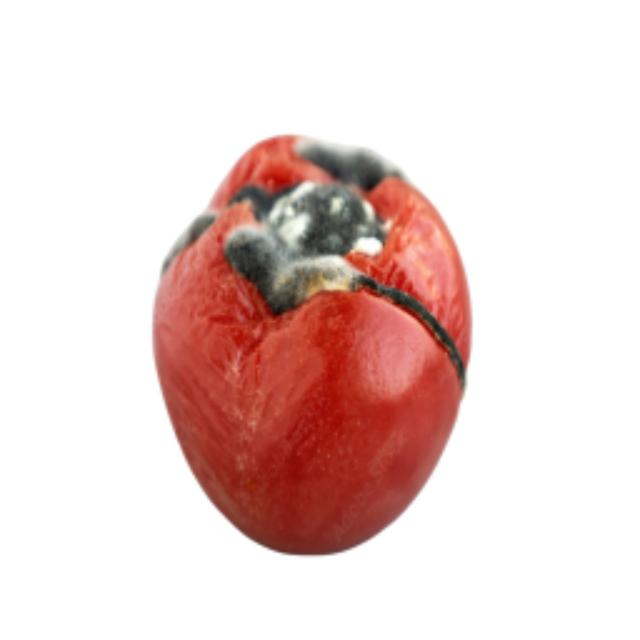defect: (146, 125, 474, 565)
